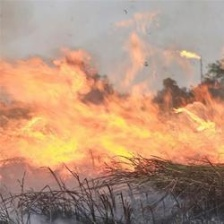fire: (3, 52, 224, 173)
